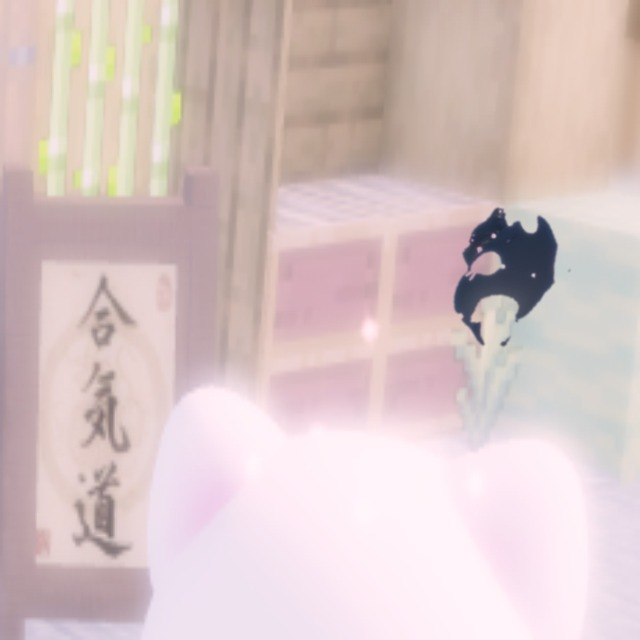urso_preto: (403, 165, 607, 385)
